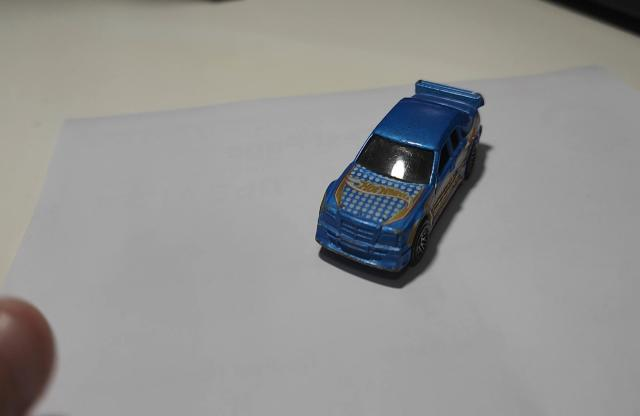04_MERZEDES: (314, 81, 486, 274)
